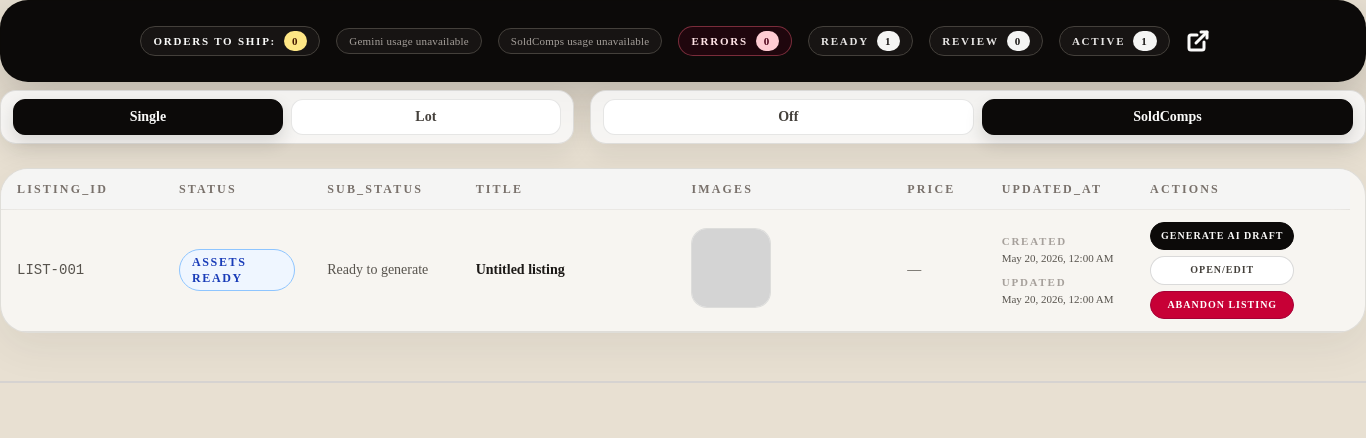
Test case: ListingsRealtime › restores previous pricing provider mode and shows error when save fails
The width and height of the screenshot is (1366, 438).
Click the radio button labelled "Off" at {"x": 788, "y": 117}, box [603,99,974,135]
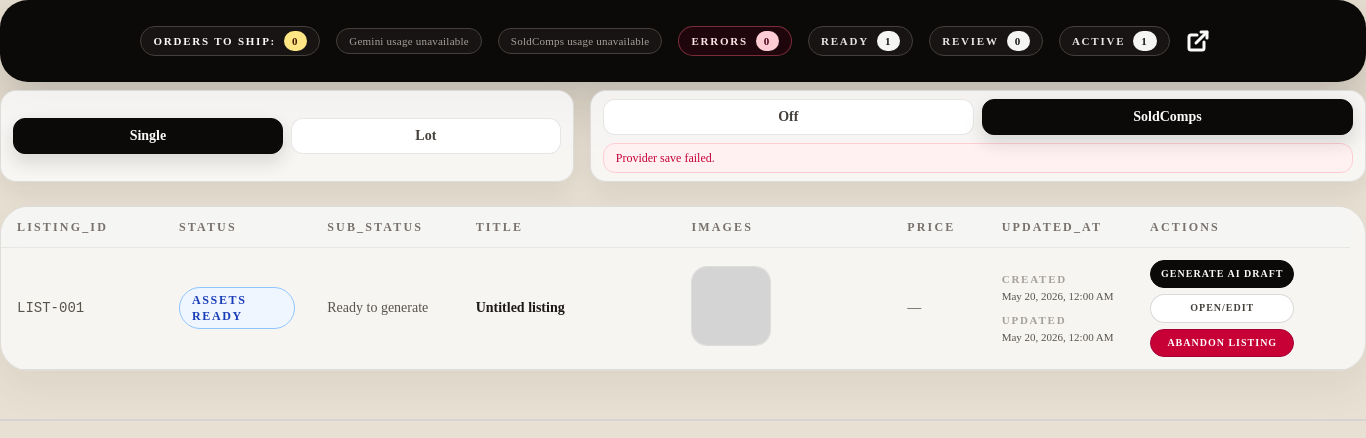
Check: the text "Provider save failed." is shown, box [603,143,1353,173]
